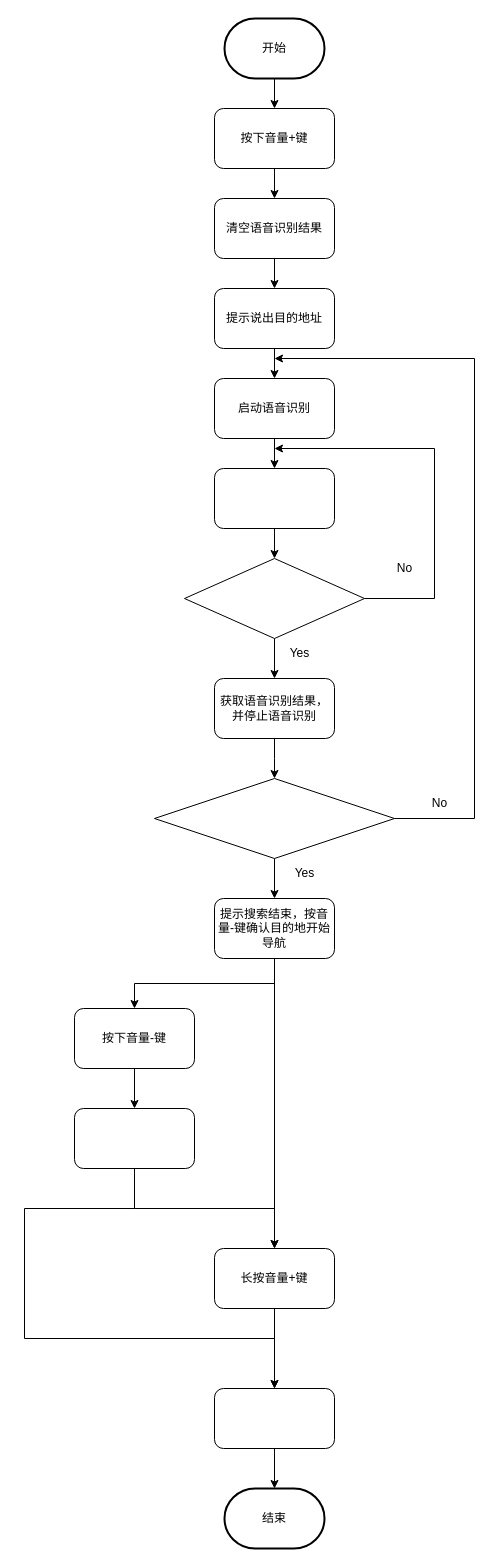
This 500x1566 diagram has some shape labels left out. Each missing label, with the centre of its shape:
"判断语音识别是否有结果" belongs at [274,598].
"开始地图搜索识别结果（isFindResult ）" belongs at [274,818].
"开始导航" belongs at [134,1138].
"等待片刻（用户说出地址）" belongs at [274,498].
"结束导航" belongs at [274,1418].
